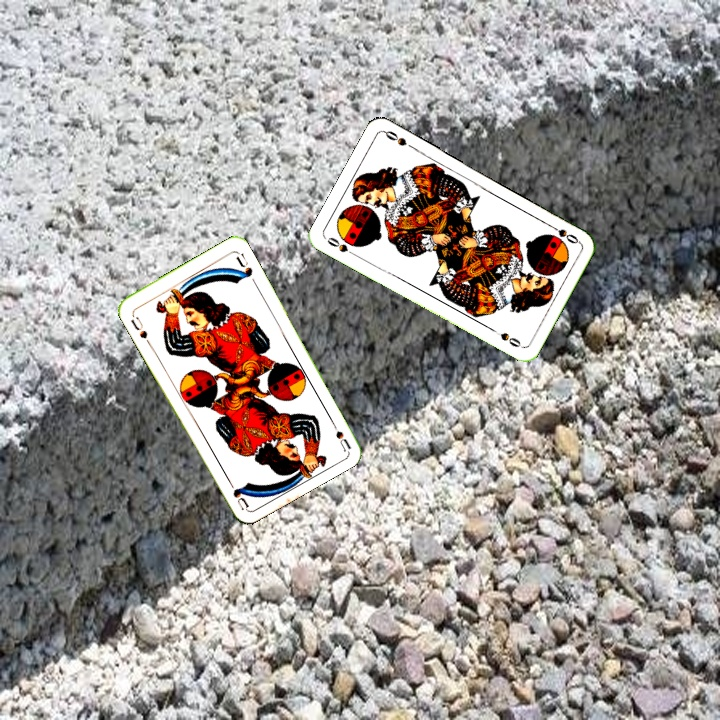SO: (545, 220, 582, 246), (322, 233, 359, 259)
SU: (326, 414, 353, 453), (127, 312, 150, 341)
